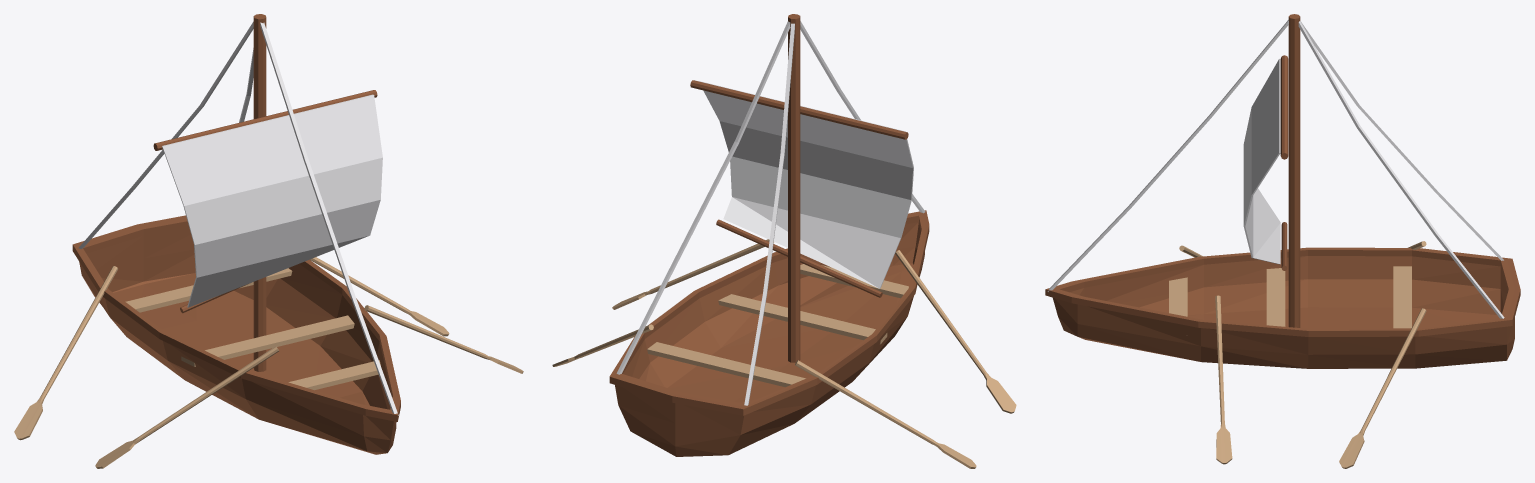
Rendered from Pirate Ship.FBX.
3 views of the same model, side by side, from view 1: azimuth 30°, elevation 25°; view 2: azimuth 150°, elevation 25°; view 3: azimuth 270°, elevation 25° (orthographic). The views are drawn at different scales.
Visible parts, largest first — view 1: Boat.002; view 2: Boat.002; view 3: Boat.002.
Part boxes in pixels (x1,y1,x2,y2): Boat.002: (14, 14, 523, 468); Boat.002: (552, 14, 1016, 468); Boat.002: (1045, 14, 1520, 468).
Bounding box in the file's own units: 646 × 550 × 664.
1 material, 1 textured.
